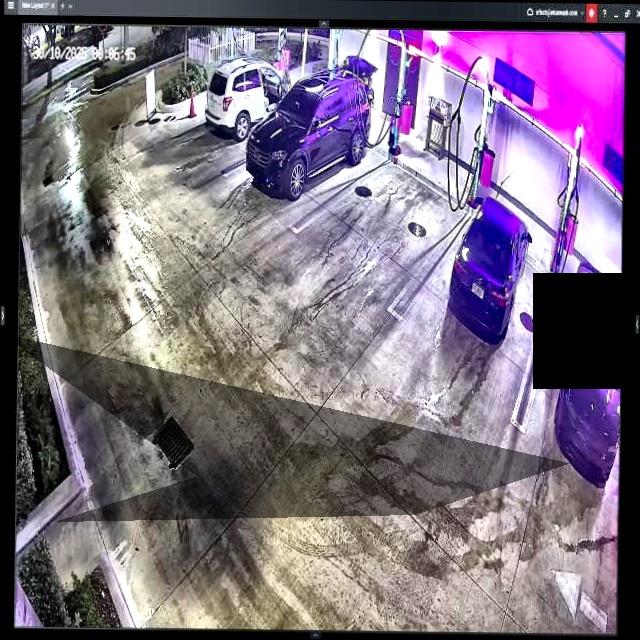Car: (241, 55, 373, 200), (449, 199, 531, 340)
